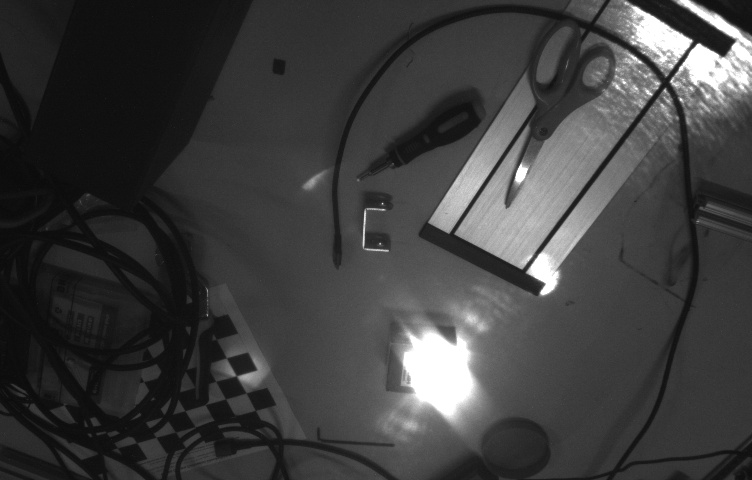Object robotic gripper finger assembly - Material plastic - Color blue - Pdfname: (370, 318, 464, 400)
